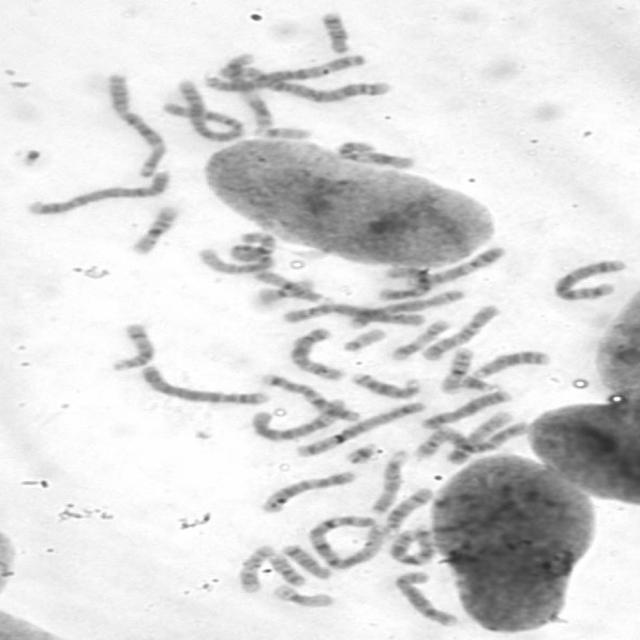A1: (305, 515, 388, 570), (194, 229, 279, 276)
A2: (216, 65, 392, 104), (160, 78, 244, 141)
A3: (200, 53, 369, 94), (104, 71, 168, 178)
B4: (23, 170, 174, 217), (140, 363, 274, 407)
B5: (293, 401, 427, 459), (551, 258, 628, 301)
C10: (419, 303, 503, 362), (442, 419, 530, 454)
C11: (225, 53, 278, 128), (335, 141, 418, 169)
C12: (259, 471, 358, 513), (375, 265, 434, 303)
C6: (248, 396, 349, 442), (279, 302, 426, 326)
C7: (260, 373, 362, 422), (388, 528, 436, 567)
C8: (349, 289, 468, 329), (394, 570, 460, 628)
C9: (406, 244, 506, 287), (445, 409, 517, 467)
D13: (472, 350, 554, 380), (348, 371, 422, 400)
D14: (384, 486, 433, 536), (110, 322, 154, 372)
D15: (252, 268, 335, 306), (367, 448, 412, 516)
E16: (129, 204, 179, 254), (438, 346, 475, 396)
E17: (390, 318, 452, 362), (236, 544, 274, 594)
E18: (278, 542, 333, 580), (318, 9, 353, 55)
F19: (255, 277, 317, 305), (272, 582, 338, 608)
F20: (412, 426, 454, 458), (268, 553, 307, 587)
G21: (344, 441, 380, 467), (460, 375, 503, 392)
G22: (340, 327, 389, 352), (249, 125, 313, 141)
X: (418, 388, 515, 432), (286, 326, 346, 382)
